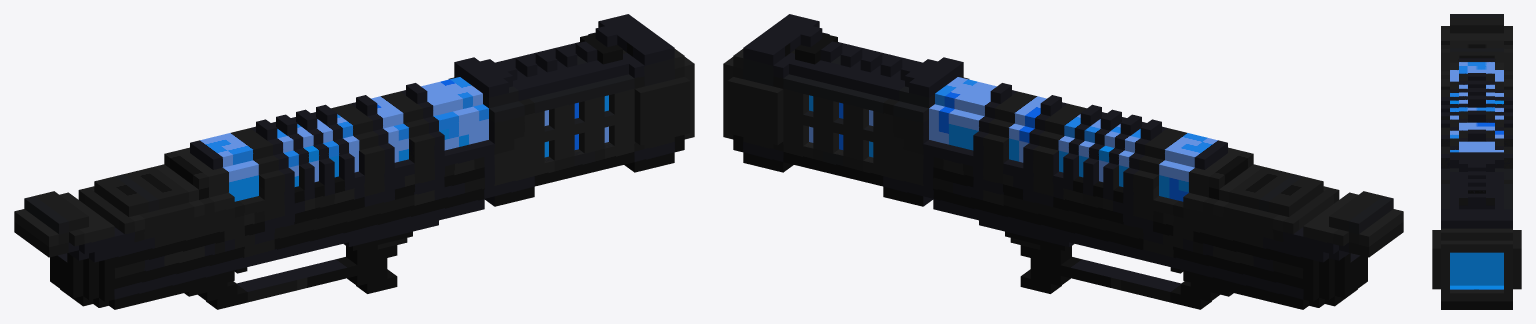
Rendered from plasmagun2.obj.
3 views of the same model, side by side, from view 1: azimuth 30°, elevation 25°; view 2: azimuth 150°, elevation 25°; view 3: azimuth 270°, elevation 25° (orthographic). The views are drawn at different scales.
Visible parts, largest first — view 1: plasmagun2-optimized_plasmagun2.001; view 2: plasmagun2-optimized_plasmagun2.001; view 3: plasmagun2-optimized_plasmagun2.001.
Part boxes in pixels (x1,y1,x2,y2): plasmagun2-optimized_plasmagun2.001: (14, 14, 694, 309); plasmagun2-optimized_plasmagun2.001: (723, 14, 1403, 309); plasmagun2-optimized_plasmagun2.001: (1432, 14, 1521, 309).
Size of the model in its own units: 122 by 36.1 by 19.
